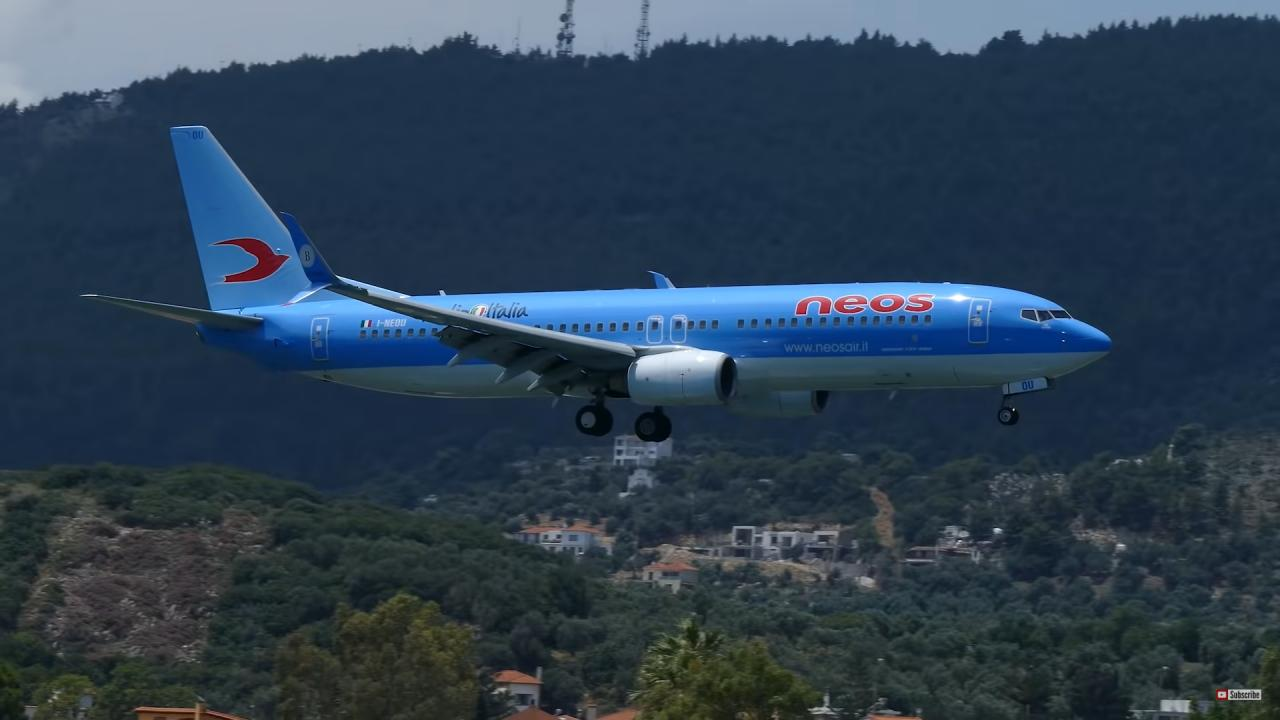Airplane: (70, 110, 1126, 456)
